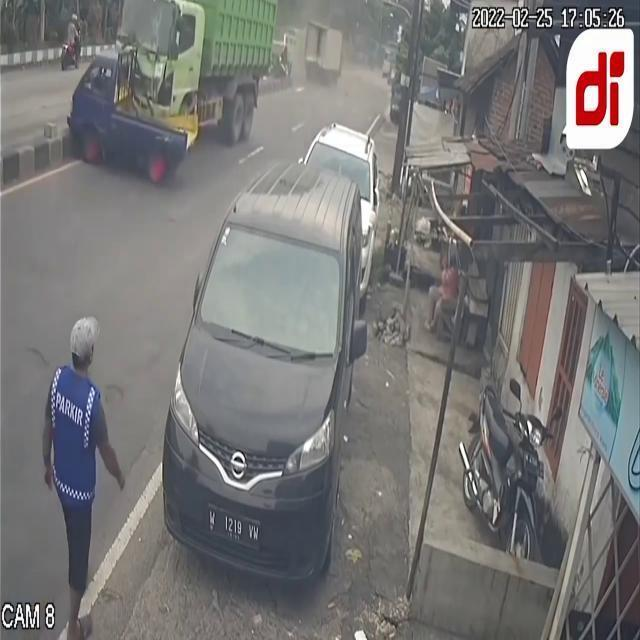accident: (68, 0, 278, 186)
non-accident: (160, 124, 384, 596)
